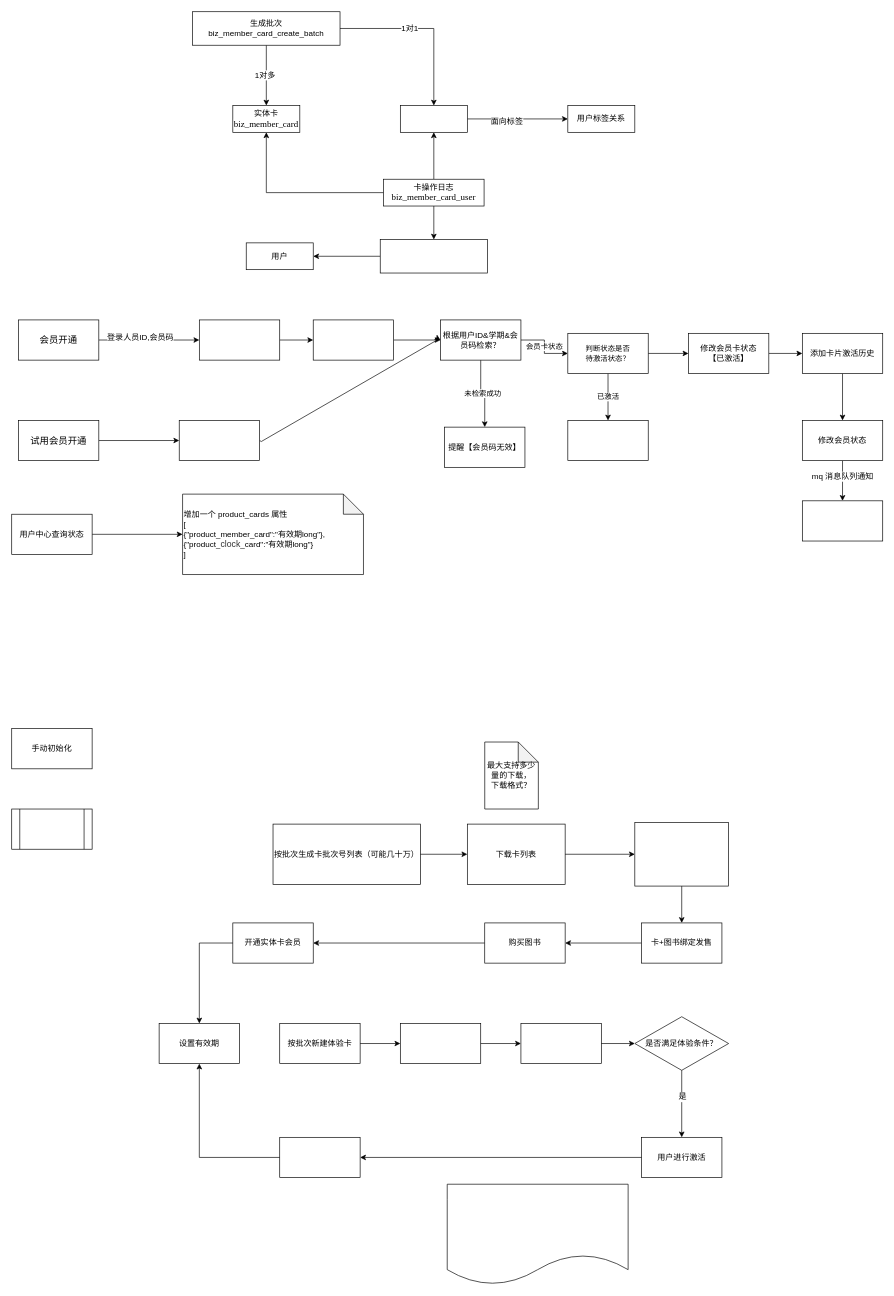
Image size: 894x1296. Some labels were removed from this diagram. The centre of each missing label's shape, as x and y in pixels:
1.已经是会员，会有临时体验卡激活入口吗？: the point at 537,1234
会员 biz_member: the point at 433,256
体验卡 biz_try_card: the point at 433,118
判断是否已经激活5次？: the point at 353,339
判断是否符合资格: the point at 219,440
判断角色类型: the point at 239,339
制作实体卡: the point at 681,854
发布体验卡: the point at 440,1043
开通会员: the point at 319,1157
提醒【已激活】: the point at 607,440
新老数据兼容: the point at 51,828
用户中心 回写redis 会员状态: the point at 842,520
用户登录: the point at 560,1043
